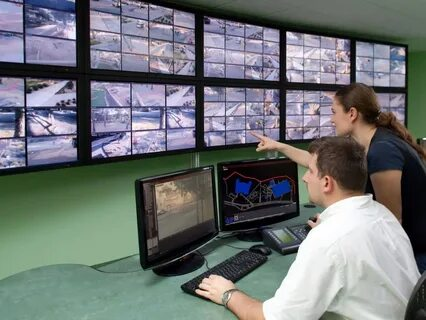awake: (237, 135, 422, 320), (330, 82, 426, 218)
